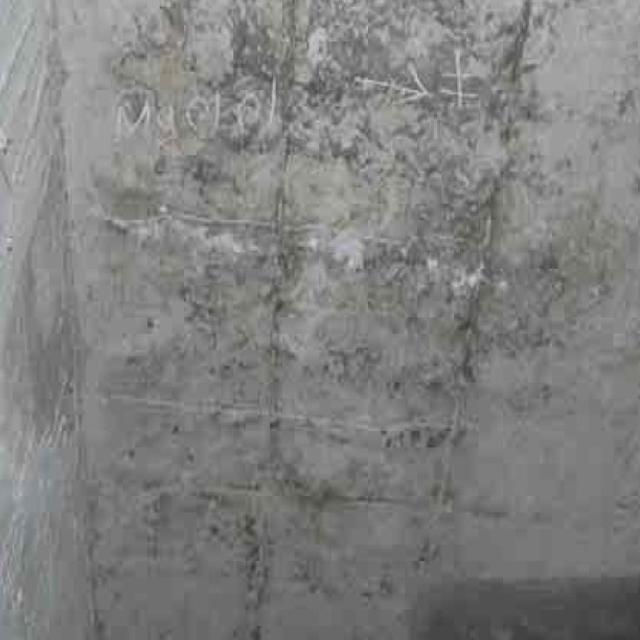freelime: (96, 190, 488, 294)
